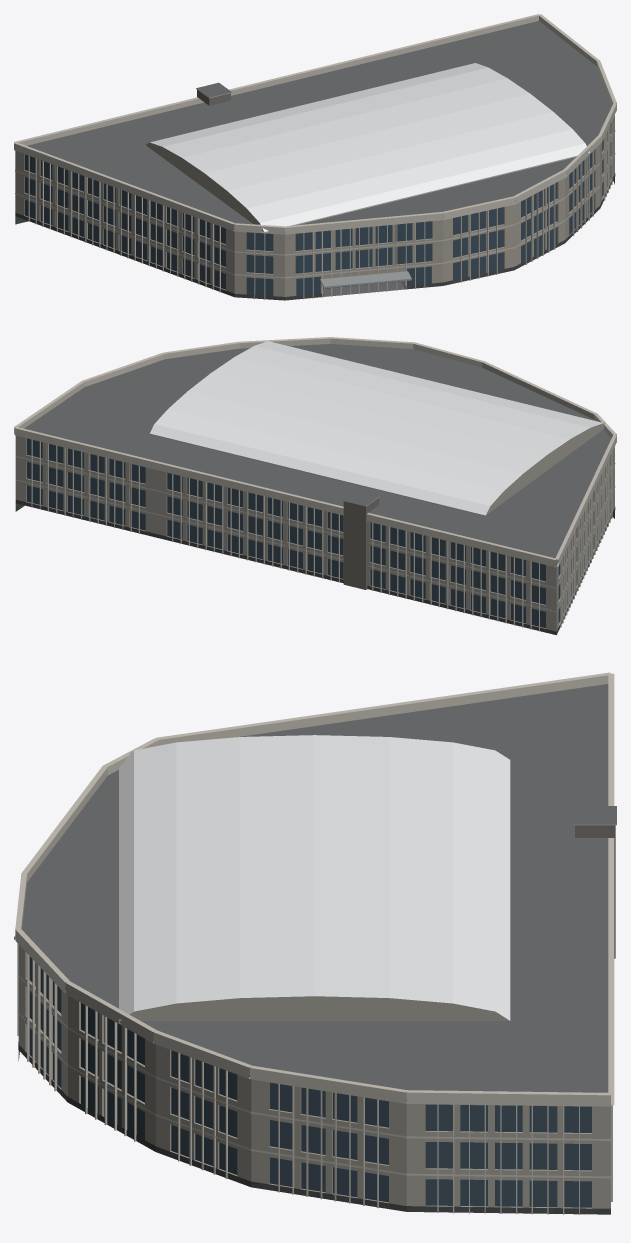
3 renders of one model, top to bottom at view 1: azimuth 30°, elevation 25°; view 2: azimuth 150°, elevation 25°; view 3: azimuth 270°, elevation 25°, orthographic. The views are drawn at different scales.
Parts seen in each view (by area): view 1: sportsComplex__vaultRoof, sportsComplex__roof, sportsComplex__trim, sportsComplex__glass, sportsComplex__wall, sportsComplex__base, sportsComplex__vaultEnd, sportsComplex__canopy; view 2: sportsComplex__vaultRoof, sportsComplex__roof, sportsComplex__trim, sportsComplex__glass, sportsComplex__wall, sportsComplex__base, sportsComplex__wall2, sportsComplex__vaultEnd; view 3: sportsComplex__vaultRoof, sportsComplex__roof, sportsComplex__trim, sportsComplex__wall, sportsComplex__glass, sportsComplex__vaultEnd, sportsComplex__base, sportsComplex__wall2.
Part boxes in pixels (x1,y1,x2,y2): sportsComplex__vaultRoof: [150, 63, 589, 231]; sportsComplex__roof: [27, 21, 612, 296]; sportsComplex__trim: [14, 14, 616, 299]; sportsComplex__glass: [24, 123, 611, 296]; sportsComplex__wall: [15, 115, 614, 296]; sportsComplex__base: [15, 173, 615, 300]; sportsComplex__vaultEnd: [145, 142, 263, 231]; sportsComplex__canopy: [320, 271, 411, 288]; sportsComplex__vaultRoof: [150, 341, 603, 515]; sportsComplex__roof: [24, 344, 611, 564]; sportsComplex__trim: [14, 337, 616, 631]; sportsComplex__glass: [27, 438, 610, 628]; sportsComplex__wall: [15, 435, 614, 634]; sportsComplex__base: [15, 500, 615, 634]; sportsComplex__wall2: [343, 498, 378, 589]; sportsComplex__vaultEnd: [486, 423, 604, 514]; sportsComplex__vaultRoof: [119, 735, 510, 1020]; sportsComplex__roof: [22, 684, 616, 1214]; sportsComplex__trim: [15, 672, 616, 1214]; sportsComplex__wall: [18, 944, 610, 1208]; sportsComplex__glass: [29, 956, 591, 1207]; sportsComplex__vaultEnd: [120, 996, 509, 1020]; sportsComplex__base: [18, 1041, 610, 1214]; sportsComplex__wall2: [575, 825, 615, 958].
Bounding box in the file's own units: 117 × 19.64 × 70.26.
11 materials, 1 textured.
